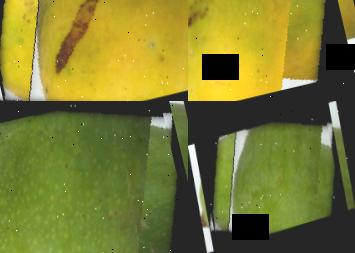PartiallyRipe: (0, 0, 188, 101), (188, 0, 345, 101)
Unripe: (0, 101, 188, 253), (198, 102, 343, 250)
